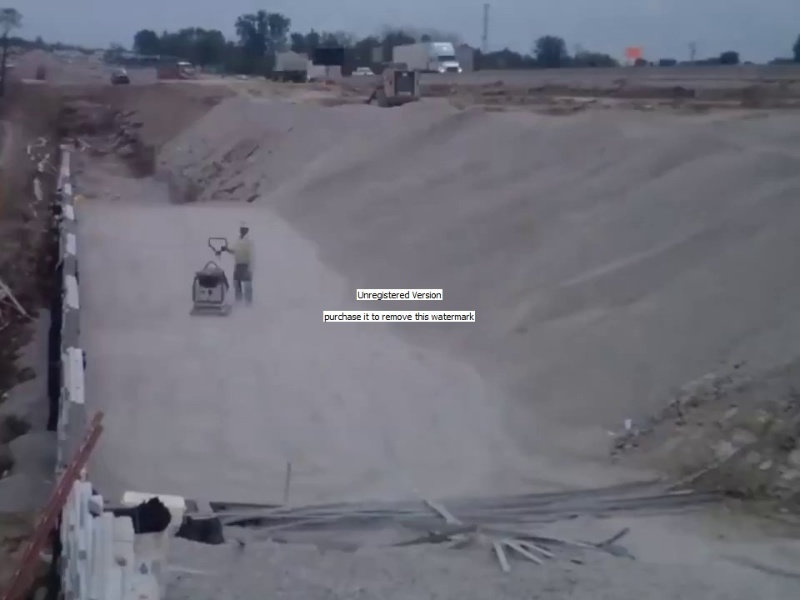hardhat: (238, 221, 251, 229)
person: (220, 220, 259, 307)
truck: (386, 40, 467, 75), (153, 59, 204, 81)
wall: (52, 148, 127, 600)
